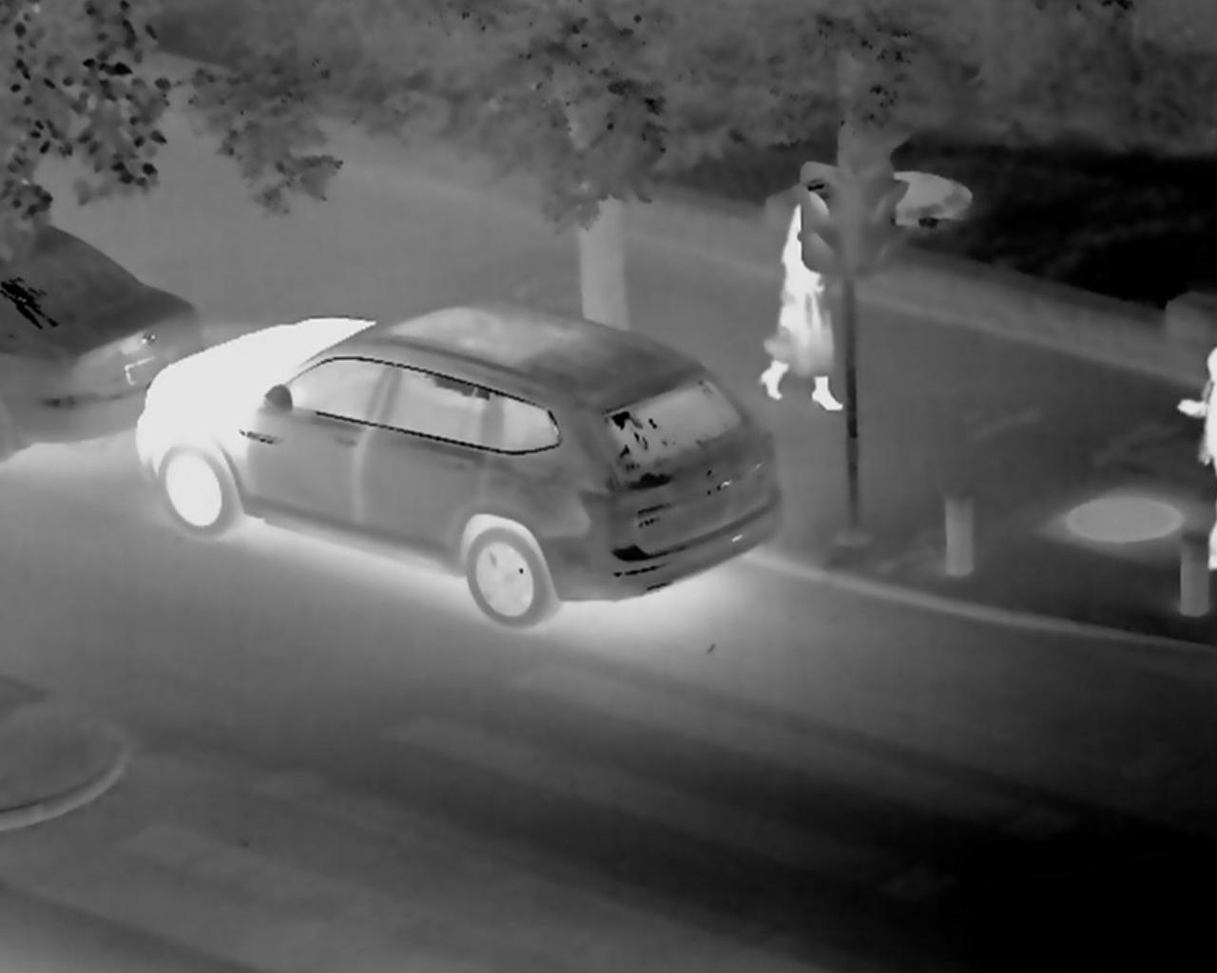person: (749, 200, 853, 407), (1179, 334, 1217, 545)
